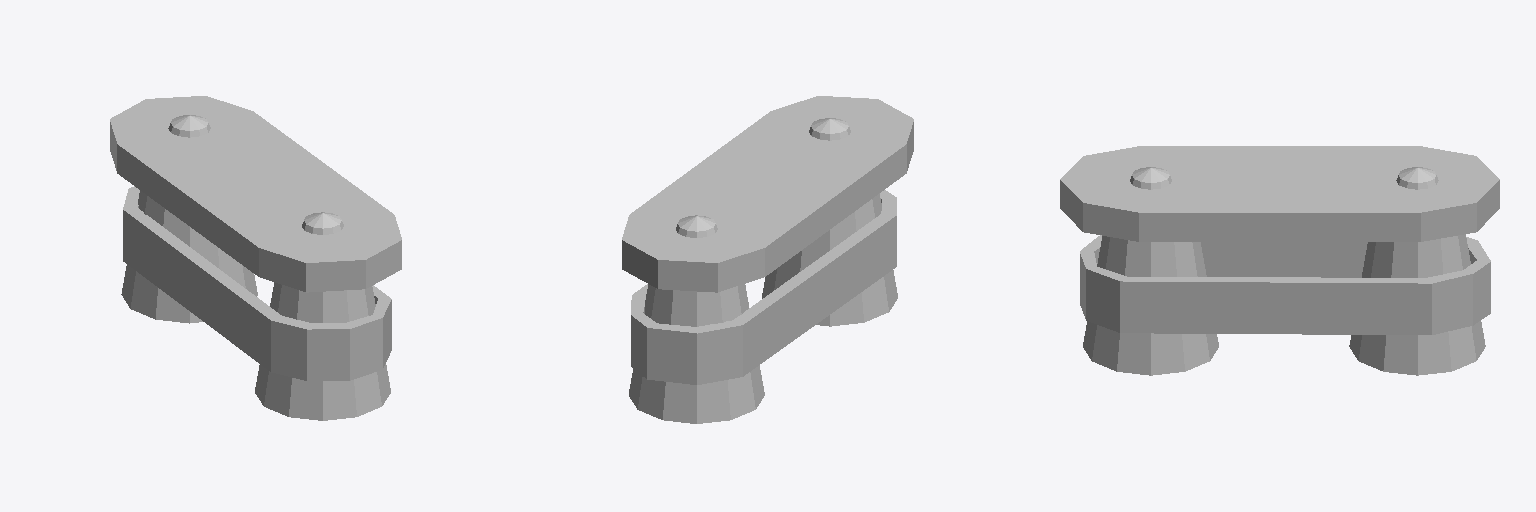
File: NormBumper2.obj
3 renders of one model, left to right at view 1: azimuth 30°, elevation 25°; view 2: azimuth 150°, elevation 25°; view 3: azimuth 270°, elevation 25°, orthographic.
Parts seen in each view (by area): view 1: SingleBumper.004_Untitled.038; view 2: SingleBumper.004_Untitled.038; view 3: SingleBumper.004_Untitled.038.
Boxes of the visible parts, x1=… form: SingleBumper.004_Untitled.038: x1=110, y1=96, x2=401, y2=420; SingleBumper.004_Untitled.038: x1=622, y1=96, x2=913, y2=423; SingleBumper.004_Untitled.038: x1=1060, y1=146, x2=1499, y2=375.
Size of the model in its own units: 0.0361 by 0.0455 by 0.1012.